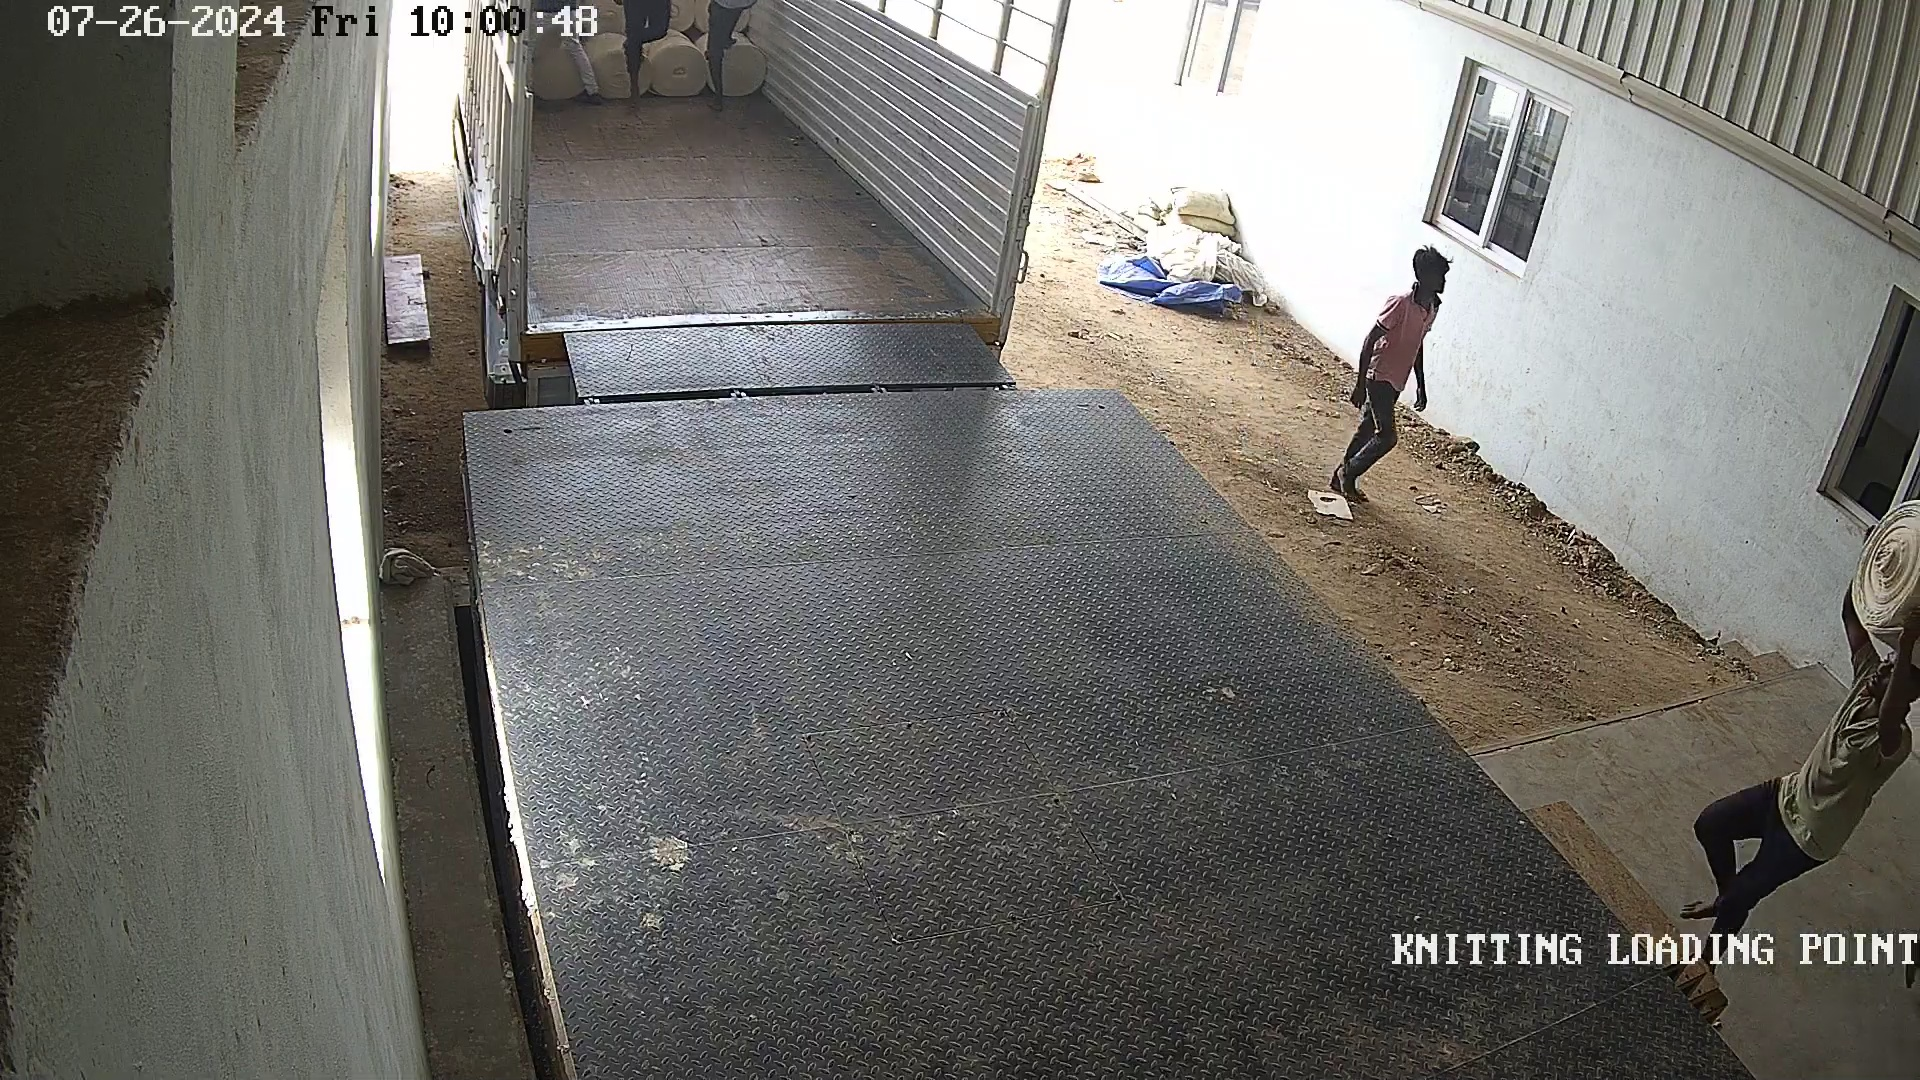bag: (1841, 495, 1920, 653)
